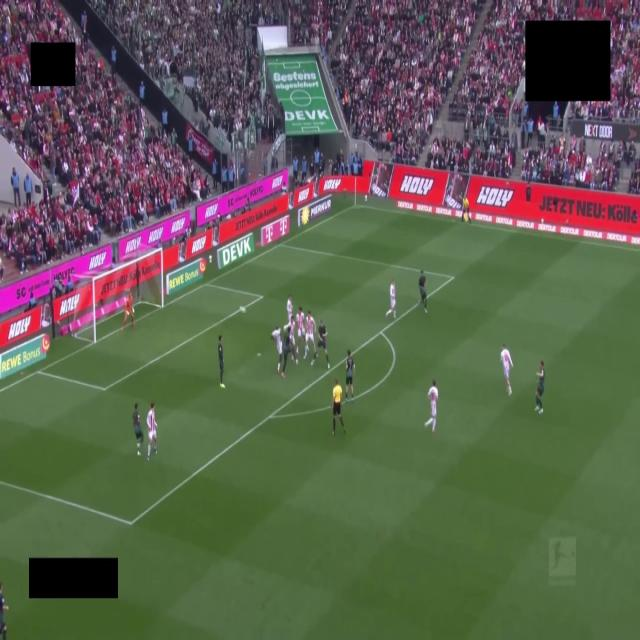ball: (240, 307, 246, 312)
player: (425, 380, 438, 432), (132, 403, 144, 456), (304, 311, 317, 359), (500, 344, 512, 395), (281, 325, 292, 378), (147, 402, 157, 460), (318, 320, 330, 368), (122, 291, 134, 330), (272, 328, 282, 374), (345, 351, 354, 401), (0, 583, 8, 639), (289, 316, 298, 365), (536, 360, 544, 414), (218, 335, 225, 388), (386, 280, 395, 318), (419, 271, 427, 312), (296, 307, 304, 343), (287, 296, 293, 324)
referee: (333, 379, 345, 435)
